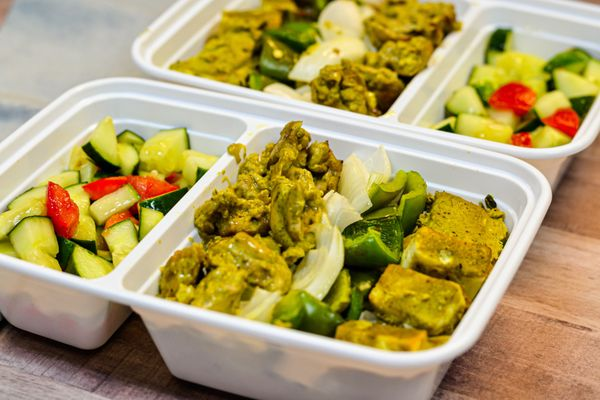sushi: (41, 114, 546, 389), (128, 0, 594, 182), (382, 3, 599, 179)
